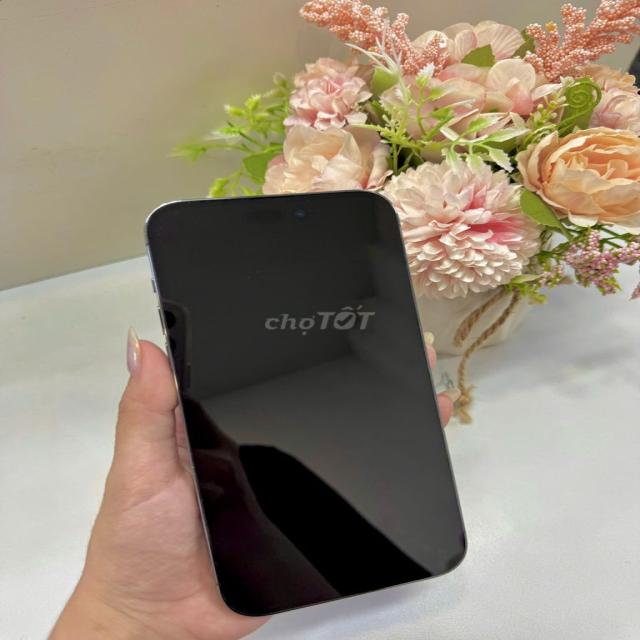gen_14: (134, 171, 482, 626)
